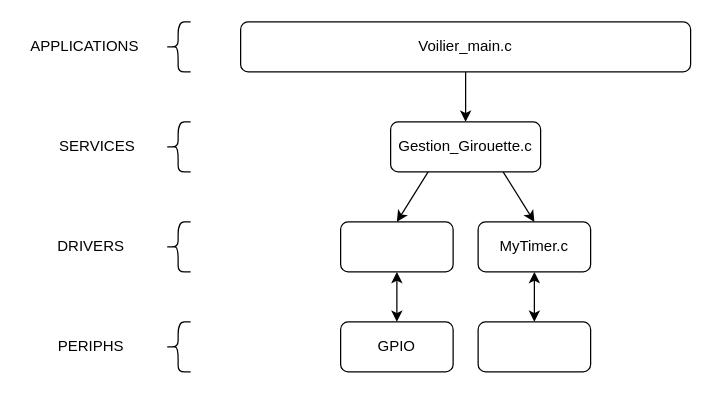
Image size: 713x394. Some labels were removed from this diagram. The shapes that lost their labels are listed below. From the top down, each one's box as (x1, y1, x2, y2) in pixels, then its label:
(339, 221, 453, 272): MyGPIO.c
(477, 321, 591, 372): Timer
